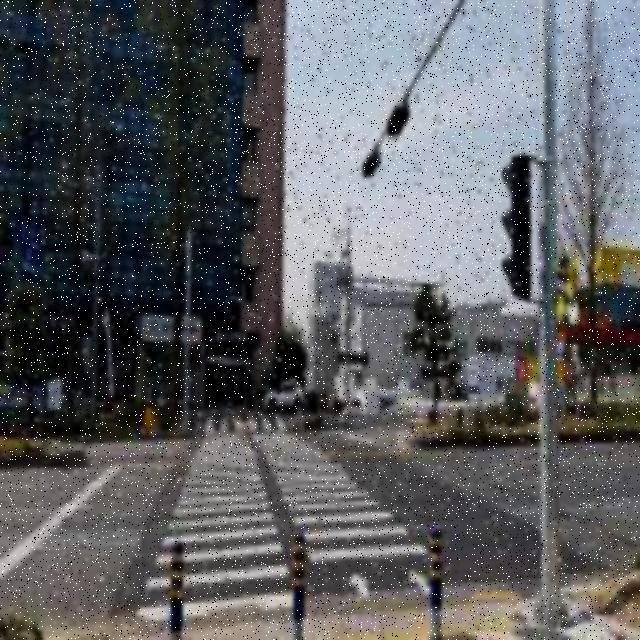crosswalk: (137, 435, 426, 619), (191, 406, 305, 443)
